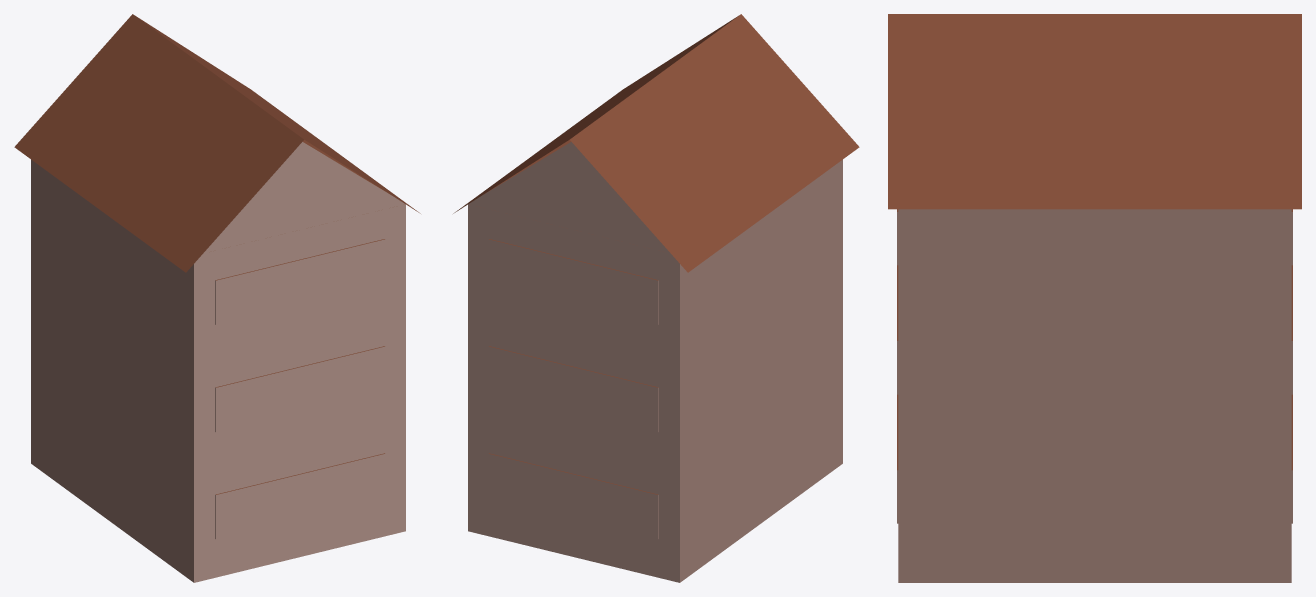
The model's file is cove-house-salmon.far-facades-v2.lod2.glb.
3 renders of one model, left to right at view 1: azimuth 30°, elevation 25°; view 2: azimuth 150°, elevation 25°; view 3: azimuth 270°, elevation 25°, orthographic. The views are drawn at different scales.
Parts seen in each view (by area): view 1: cove-house-salmon; view 2: cove-house-salmon; view 3: cove-house-salmon.
Part boxes in pixels (x1,y1,x2,y2): cove-house-salmon: (14,14,420,582); cove-house-salmon: (453,14,859,582); cove-house-salmon: (888,14,1301,582).
Bounding box in the file's own units: 6.7 × 11.38 × 8.42.
